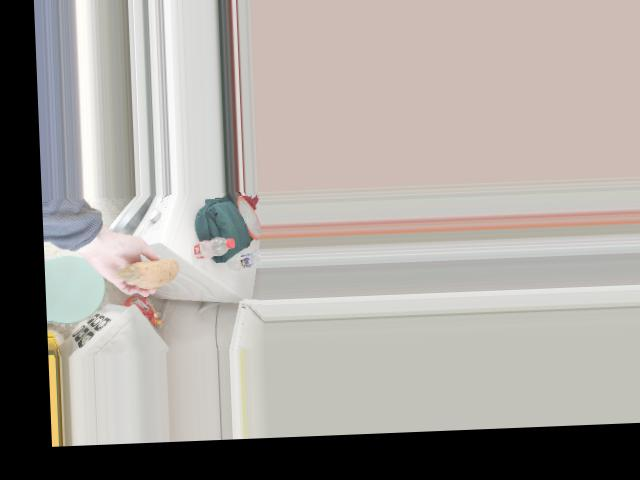sweet_potato: (124, 258, 193, 286)
